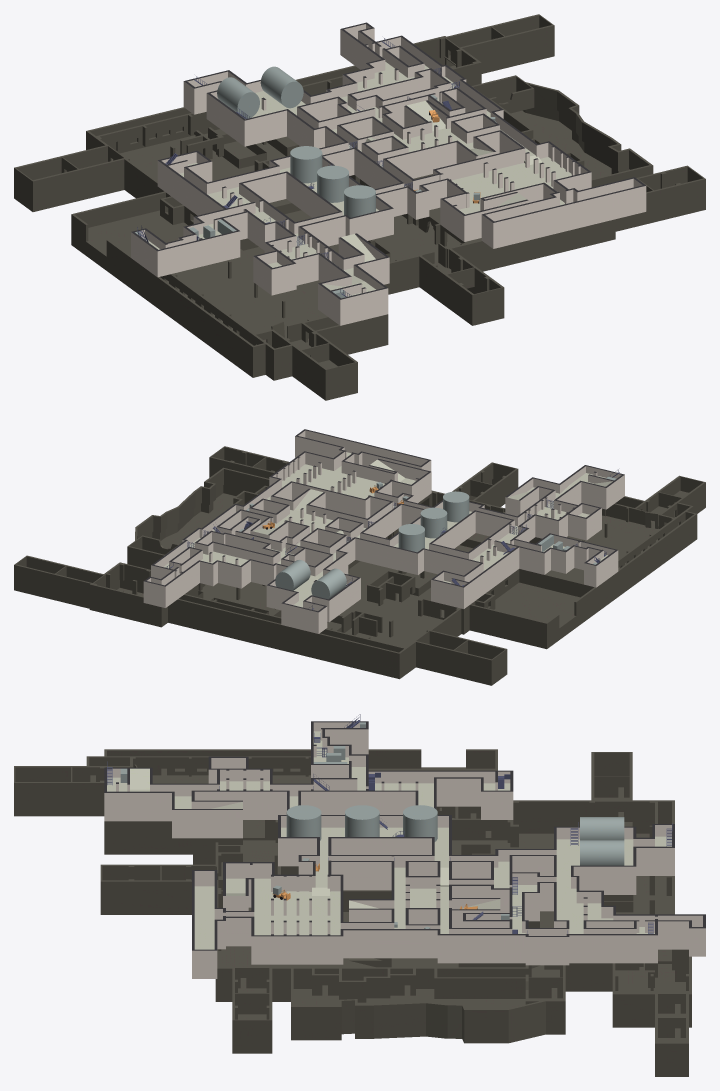
File: factory_underground.glb
3 renders of one model, top to bottom at view 1: azimuth 30°, elevation 25°; view 2: azimuth 150°, elevation 25°; view 3: azimuth 270°, elevation 25°, orthographic. The views are drawn at different scales.
Visible parts, largest first — view 1: root; view 2: root; view 3: root.
Part boxes in pixels (bbox=[...]): root: bbox=[14, 14, 705, 400]; root: bbox=[14, 429, 705, 685]; root: bbox=[14, 714, 705, 1076].
Bounding box in the file's own units: 246 × 30.55 × 244.
Materials: 1 (1 with a texture image).
